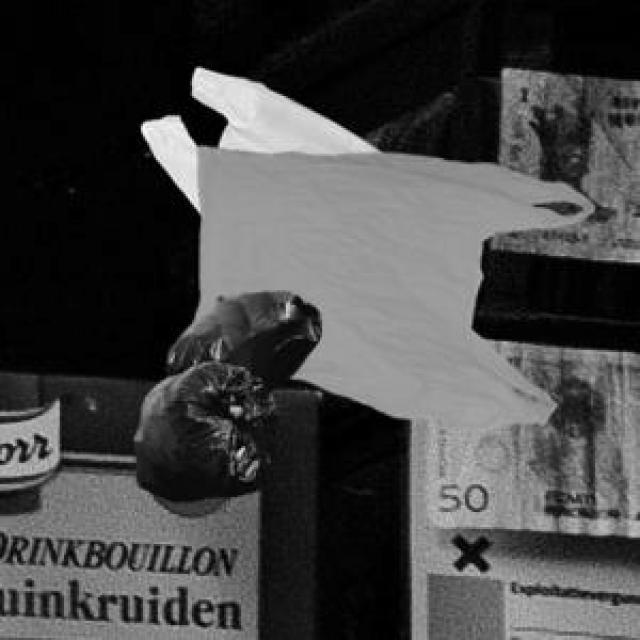miscellaneous trash: (130, 288, 318, 497)
